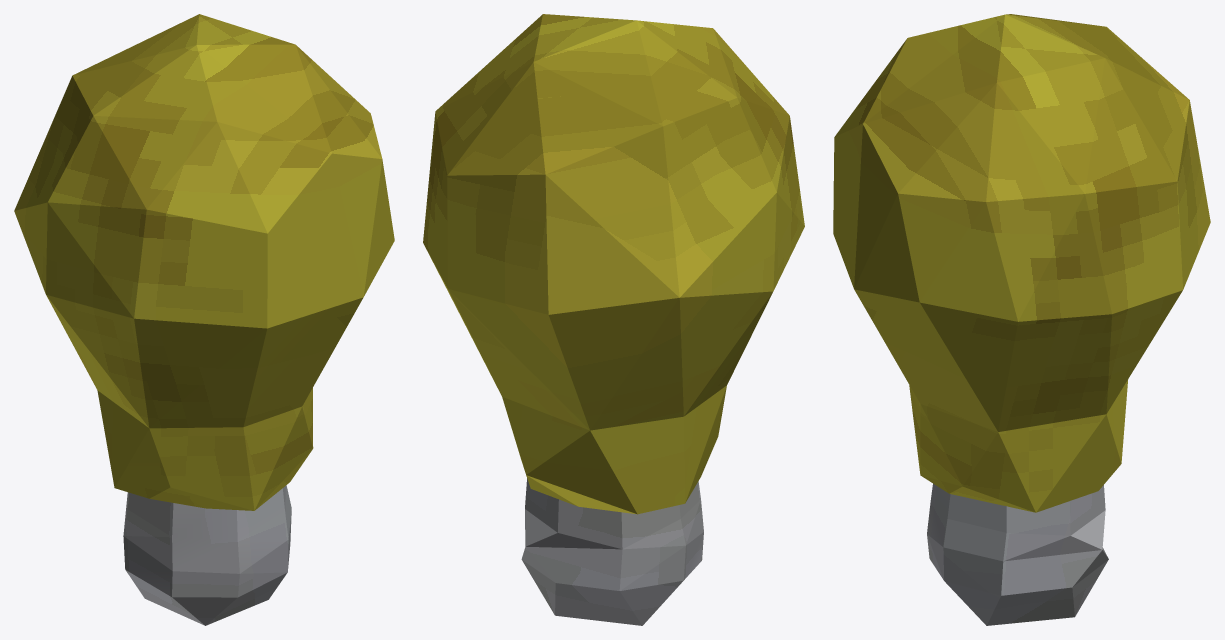
The model's file is item_ticket_machine_bulb_yellow.glb.
3 renders of one model, left to right at view 1: azimuth 30°, elevation 25°; view 2: azimuth 150°, elevation 25°; view 3: azimuth 270°, elevation 25°, orthographic. The views are drawn at different scales.
Parts seen in each view (by area): view 1: lightbulb_submesh_0, lightbulb_submesh_1; view 2: lightbulb_submesh_0, lightbulb_submesh_1; view 3: lightbulb_submesh_0, lightbulb_submesh_1.
Part boxes in pixels (x1=…): lightbulb_submesh_0: x1=14, y1=14, x2=394, y2=510; lightbulb_submesh_1: x1=123, y1=485, x2=291, y2=625; lightbulb_submesh_0: x1=423, y1=14, x2=804, y2=514; lightbulb_submesh_1: x1=521, y1=478, x2=703, y2=625; lightbulb_submesh_0: x1=833, y1=14, x2=1210, y2=512; lightbulb_submesh_1: x1=927, y1=483, x2=1108, y2=625.
Bounding box in the file's own units: 0.2249 × 0.3754 × 0.2215.
Materials: 2 (2 with a texture image).
